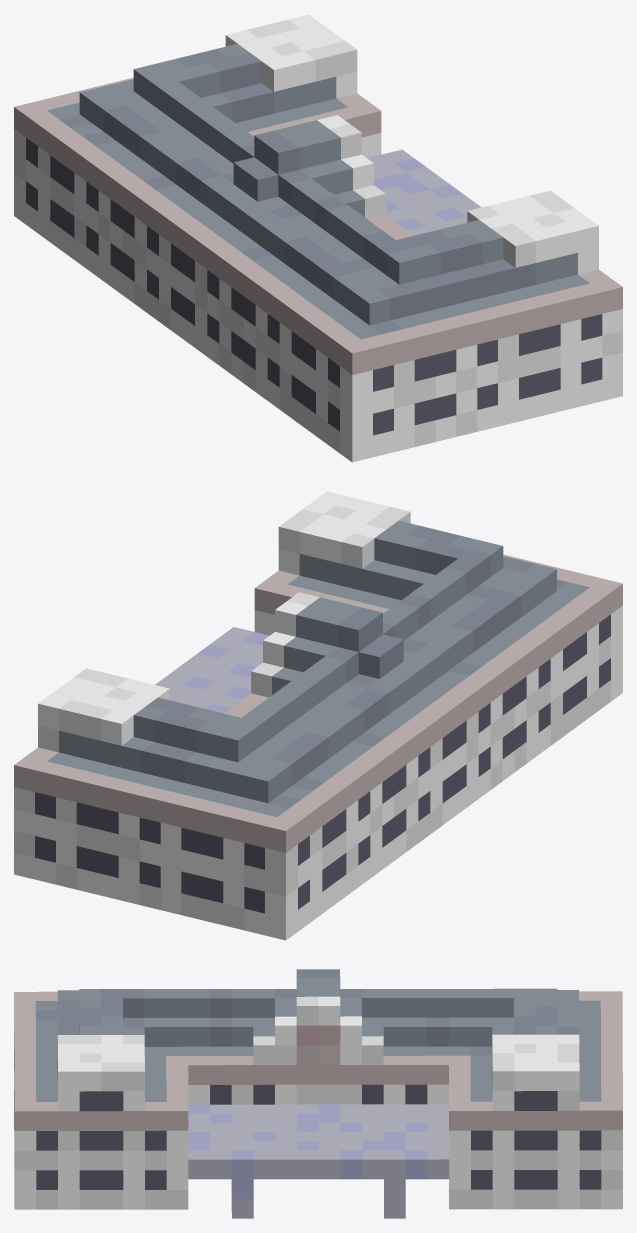
Rendered from oudcentraal.fbx.
3 renders of one model, top to bottom at view 1: azimuth 30°, elevation 25°; view 2: azimuth 150°, elevation 25°; view 3: azimuth 270°, elevation 25°, orthographic. The views are drawn at different scales.
Parts seen in each view (by area): view 1: Layer.132; view 2: Layer.132; view 3: Layer.132.
Part boxes in pixels (x1,y1,x2,y2): Layer.132: (14, 14, 622, 462); Layer.132: (14, 491, 622, 940); Layer.132: (14, 969, 622, 1218).
Size of the model in its own units: 3284 by 1872 by 6557.
Materials: 1 (1 with a texture image).
